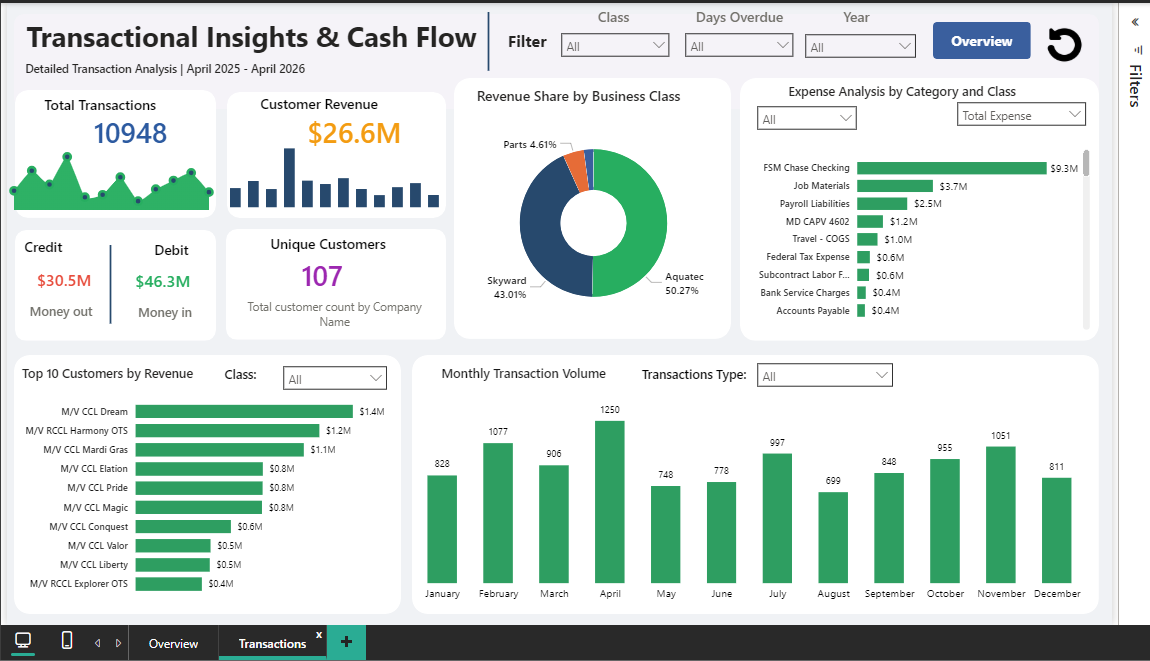

What the dashboard file says about the page in this screenshot:
{"tool":"powerbi","page":{"name":"Transactions","canvas":[1280,720],"ordinal":1},"visuals":[{"type":"shape","box":[8.1,12.7,1255.9,110],"z":0},{"type":"textbox","box":[17.4,10.4,533.6,71.8],"z":1000},{"type":"textbox","box":[15,62.5,335.7,39.4],"z":2000},{"type":"textbox","box":[573,25.5,63.7,37],"z":3000},{"type":"shape","box":[9.3,100.7,232.7,148.2],"z":4000},{"type":"cardVisual","fields":{"Data":["MeasureTablePage2.Total Transactions"]},"box":[76.4,114.6,133.1,67.1],"z":5000},{"type":"textbox","box":[38.2,101.9,157.4,34.7],"z":6000},{"type":"shape","box":[253.5,261.6,254.7,128.5],"z":7000},{"type":"textbox","box":[299.8,262.8,151.6,45.1],"z":8000},{"type":"cardVisual","fields":{"Data":["MeasureTablePage2.Unique Customers"]},"box":[288.2,280.1,154,67.1],"z":9000},{"type":"textbox","box":[258.1,338,241.9,45.1],"z":10000},{"type":"shape","box":[9.3,262.8,232.7,128.5],"z":11000},{"type":"textbox","box":[165.5,269.7,67.1,39.4],"z":12000},{"type":"cardVisual","fields":{"Data":["MeasureTablePage2.Total Debit"]},"box":[143.5,292.9,86.8,54.4],"z":13000},{"type":"textbox","box":[143.5,342.6,78.7,34.7],"z":14000},{"type":"shape","box":[8.1,407.5,448,299.8],"z":15000},{"type":"clusteredBarChart","fields":{"Category":["Transactions by Customer.Company Name"],"Y":["MeasureTablePage2.Total Invoiced"]},"box":[15,443.3,429.5,251.2],"z":16000},{"type":"shape","box":[254.7,103,253.5,145.9],"z":17000},{"type":"textbox","box":[9.3,413.2,214.1,39.4],"z":18000},{"type":"slicer","fields":{"Values":["Transactions by Customer.Class"]},"box":[314.9,415.6,129.6,32.4],"z":19000},{"type":"shape","box":[468.8,407.5,795.2,299.8],"z":20000},{"type":"textbox","box":[15,266.2,61.4,39.4],"z":21000},{"type":"columnChart","fields":{"Y":["MeasureTablePage2.Total Transactions"],"Category":["Calendar.Date.Variation.Date Hierarchy.Year","Calendar.Date.Variation.Date Hierarchy.Month"]},"box":[456.1,446.8,808,254.7],"z":22000},{"type":"cardVisual","fields":{"Data":["MeasureTablePage2.Total Credit"]},"box":[19.7,292.9,93.8,52.1],"z":23000},{"type":"textbox","box":[468.8,413.2,258.1,39.4],"z":24000},{"type":"textbox","box":[15,341.5,94.9,35.9],"z":25000},{"type":"slicer","fields":{"Values":["Transactions.Type"]},"box":[863.5,412.1,166.7,35.9],"z":26000},{"type":"textbox","box":[726.9,414.4,136.6,35.9],"z":27000},{"type":"textbox","box":[288,100.7,170.3,45.2],"z":28000},{"type":"textbox","box":[240.8,414.4,59,35.9],"z":29000},{"type":"cardVisual","fields":{"Data":["MeasureTablePage2.Total Customer Revenue"]},"box":[325.3,114.6,154,66],"z":30000},{"type":"shape","box":[848.5,86.8,415.6,304.4],"z":31000},{"type":"clusteredBarChart","fields":{"Y":["MeasureTablePage2.Total Expense"],"Category":["Transactions.Category"]},"box":[848.6,155.7,410,227],"z":32000},{"type":"slicer","fields":{"Values":["Transactions.Class"]},"box":[863.5,114.6,125,32.4],"z":33000},{"type":"textbox","box":[849,86.9,375.1,39.3],"z":34000},{"type":"textbox","box":[640.1,0,123.9,35.9],"z":35000},{"type":"slicer","fields":{"Values":["Transactions by Customer.Class"]},"box":[636.7,30.1,135.4,38.2],"z":36000},{"type":"shape","box":[113.4,280.1,12.7,91.4],"z":37000},{"type":"shape","box":[517.4,86.8,320.6,302.1],"z":38000},{"type":"donutChart","fields":{"Y":["MeasureTablePage2.Adjusted Revenue"],"Category":["AR Details.Class"]},"box":[527.8,126.2,302.1,257],"z":39000},{"type":"shape","box":[551,10.4,12.7,68.3],"z":40000},{"type":"textbox","box":[527.8,91.4,267.4,39.4],"z":41000},{"type":"slicer","fields":{"Values":["AR Details.Days Overdue"]},"box":[780.2,30.1,135.4,38.2],"z":42000},{"type":"shape","box":[1071.9,22,113.4,42.8],"z":43000},{"type":"textbox","box":[786,0,123.9,35.9],"z":44000},{"type":"areaChart","fields":{"Category":["Calendar.Date.Variation.Date Hierarchy.Month"],"Y":["MeasureTablePage2.Total Transactions"]},"box":[0,155.1,241.9,84.5],"z":45000},{"type":"columnChart","fields":{"Category":["Calendar.Date.Variation.Date Hierarchy.Month"],"Y":["MeasureTablePage2.Total Customer Revenue"]},"box":[258.1,152.8,241.9,84.5],"z":46000},{"type":"slicer","fields":{"Values":["Category Breakdown.Category Breakdown"]},"box":[1095,110,158.6,32.4],"z":47000},{"type":"image","box":[1195.6,25,57,46.4],"z":48000},{"type":"slicer","fields":{"Values":["Calendar.Date.Variation.Date Hierarchy.Year"]},"box":[919.1,31.3,137.7,35.9],"z":49000},{"type":"textbox","box":[936.5,0,93.8,35.9],"z":50000}]}

Visuals, with their boxes on the page's 1280x720 design canvas (x1, y1, x2, y2). These are canvas units, not pixel positions in the 1150x661 screenshot, which may show the page scaled, cropped or inside an application window:
shape: <bbox>8, 13, 1264, 123</bbox>
textbox: <bbox>17, 10, 551, 82</bbox>
textbox: <bbox>15, 62, 351, 102</bbox>
textbox: <bbox>573, 26, 637, 62</bbox>
shape: <bbox>9, 101, 242, 249</bbox>
cardVisual - MeasureTablePage2.Total Transactions: <bbox>76, 115, 210, 182</bbox>
textbox: <bbox>38, 102, 196, 137</bbox>
shape: <bbox>254, 262, 508, 390</bbox>
textbox: <bbox>300, 263, 451, 308</bbox>
cardVisual - MeasureTablePage2.Unique Customers: <bbox>288, 280, 442, 347</bbox>
textbox: <bbox>258, 338, 500, 383</bbox>
shape: <bbox>9, 263, 242, 391</bbox>
textbox: <bbox>166, 270, 233, 309</bbox>
cardVisual - MeasureTablePage2.Total Debit: <bbox>144, 293, 230, 347</bbox>
textbox: <bbox>144, 343, 222, 377</bbox>
shape: <bbox>8, 408, 456, 707</bbox>
clusteredBarChart - Transactions by Customer.Company Name x MeasureTablePage2.Total Invoiced: <bbox>15, 443, 444, 694</bbox>
shape: <bbox>255, 103, 508, 249</bbox>
textbox: <bbox>9, 413, 223, 453</bbox>
slicer - Transactions by Customer.Class: <bbox>315, 416, 444, 448</bbox>
shape: <bbox>469, 408, 1264, 707</bbox>
textbox: <bbox>15, 266, 76, 306</bbox>
columnChart - MeasureTablePage2.Total Transactions x Calendar.Date.Variation.Date Hierarchy.Year: <bbox>456, 447, 1264, 702</bbox>
cardVisual - MeasureTablePage2.Total Credit: <bbox>20, 293, 114, 345</bbox>
textbox: <bbox>469, 413, 727, 453</bbox>
textbox: <bbox>15, 342, 110, 377</bbox>
slicer - Transactions.Type: <bbox>864, 412, 1030, 448</bbox>
textbox: <bbox>727, 414, 864, 450</bbox>
textbox: <bbox>288, 101, 458, 146</bbox>
textbox: <bbox>241, 414, 300, 450</bbox>
cardVisual - MeasureTablePage2.Total Customer Revenue: <bbox>325, 115, 479, 181</bbox>
shape: <bbox>848, 87, 1264, 391</bbox>
clusteredBarChart - MeasureTablePage2.Total Expense x Transactions.Category: <bbox>849, 156, 1259, 383</bbox>
slicer - Transactions.Class: <bbox>864, 115, 988, 147</bbox>
textbox: <bbox>849, 87, 1224, 126</bbox>
textbox: <bbox>640, 0, 764, 36</bbox>
slicer - Transactions by Customer.Class: <bbox>637, 30, 772, 68</bbox>
shape: <bbox>113, 280, 126, 372</bbox>
shape: <bbox>517, 87, 838, 389</bbox>
donutChart - MeasureTablePage2.Adjusted Revenue x AR Details.Class: <bbox>528, 126, 830, 383</bbox>
shape: <bbox>551, 10, 564, 79</bbox>
textbox: <bbox>528, 91, 795, 131</bbox>
slicer - AR Details.Days Overdue: <bbox>780, 30, 916, 68</bbox>
shape: <bbox>1072, 22, 1185, 65</bbox>
textbox: <bbox>786, 0, 910, 36</bbox>
areaChart - Calendar.Date.Variation.Date Hierarchy.Month x MeasureTablePage2.Total Transactions: <bbox>0, 155, 242, 240</bbox>
columnChart - Calendar.Date.Variation.Date Hierarchy.Month x MeasureTablePage2.Total Customer Revenue: <bbox>258, 153, 500, 237</bbox>
slicer - Category Breakdown.Category Breakdown: <bbox>1095, 110, 1254, 142</bbox>
image: <bbox>1196, 25, 1253, 71</bbox>
slicer - Calendar.Date.Variation.Date Hierarchy.Year: <bbox>919, 31, 1057, 67</bbox>
textbox: <bbox>936, 0, 1030, 36</bbox>
